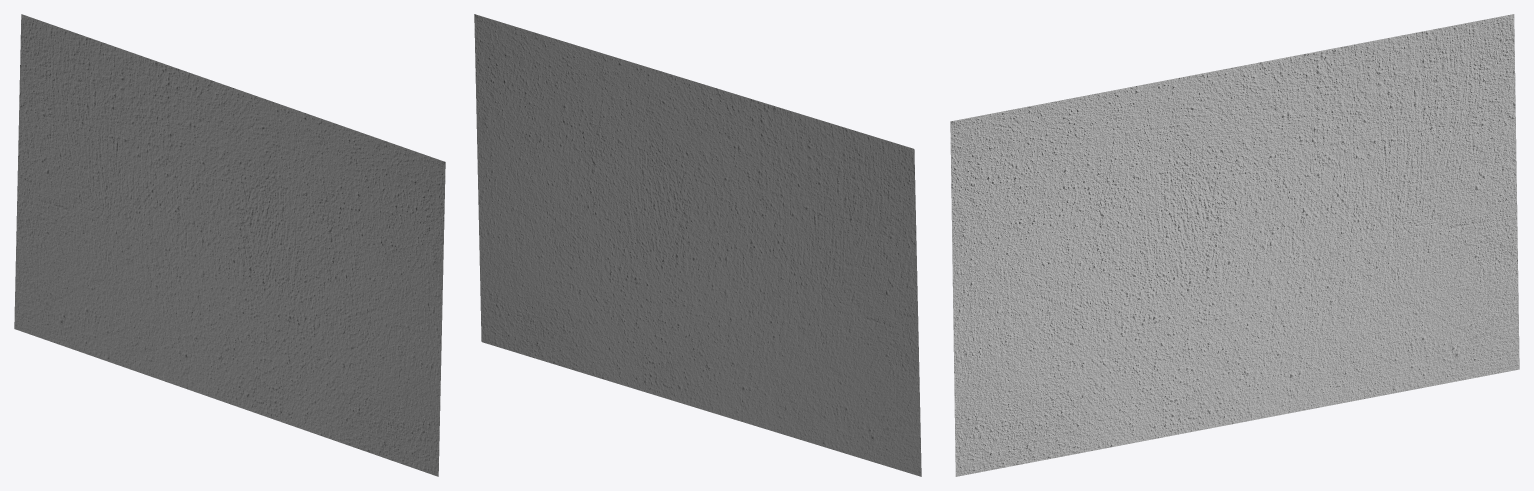
Rendered from mapa3.fbx.
The picture shows the model from 3 angles, left to right: view 1: azimuth 30°, elevation 25°; view 2: azimuth 210°, elevation 25°; view 3: azimuth 270°, elevation 25°; orthographic projection. The views are drawn at different scales.
Visible parts, largest first — view 1: Plane.007; view 2: Plane.007; view 3: Plane.007.
Boxes of the visible parts, bbox=[...] form: Plane.007: bbox=[14, 14, 445, 476]; Plane.007: bbox=[474, 14, 921, 476]; Plane.007: bbox=[950, 14, 1519, 476].
Size of the model in its own units: 182 by 312 by 438.
Materials: 1 (1 with a texture image).
